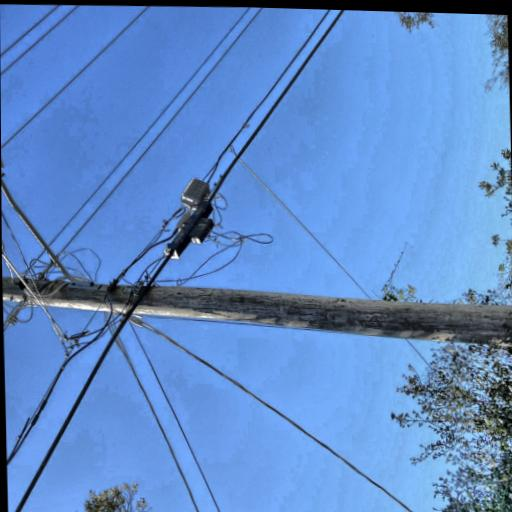pole: (32, 3, 144, 512)
street light: (100, 86, 251, 236)
